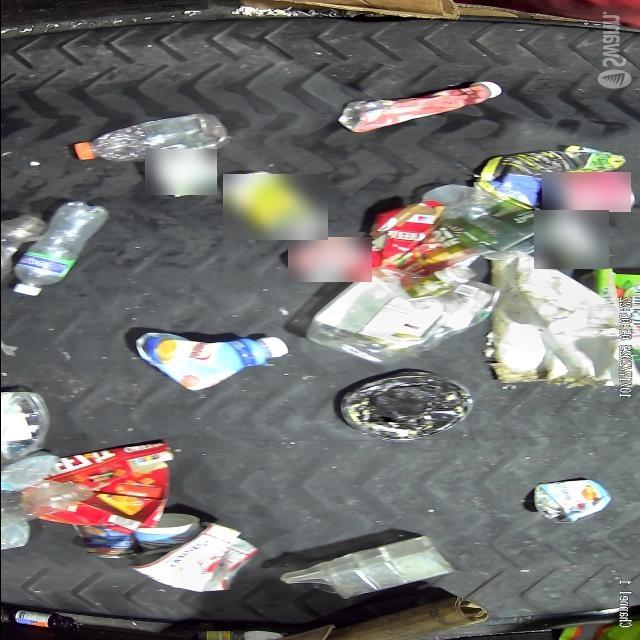plastic_bottle: (11, 199, 108, 293), (72, 113, 232, 164)
